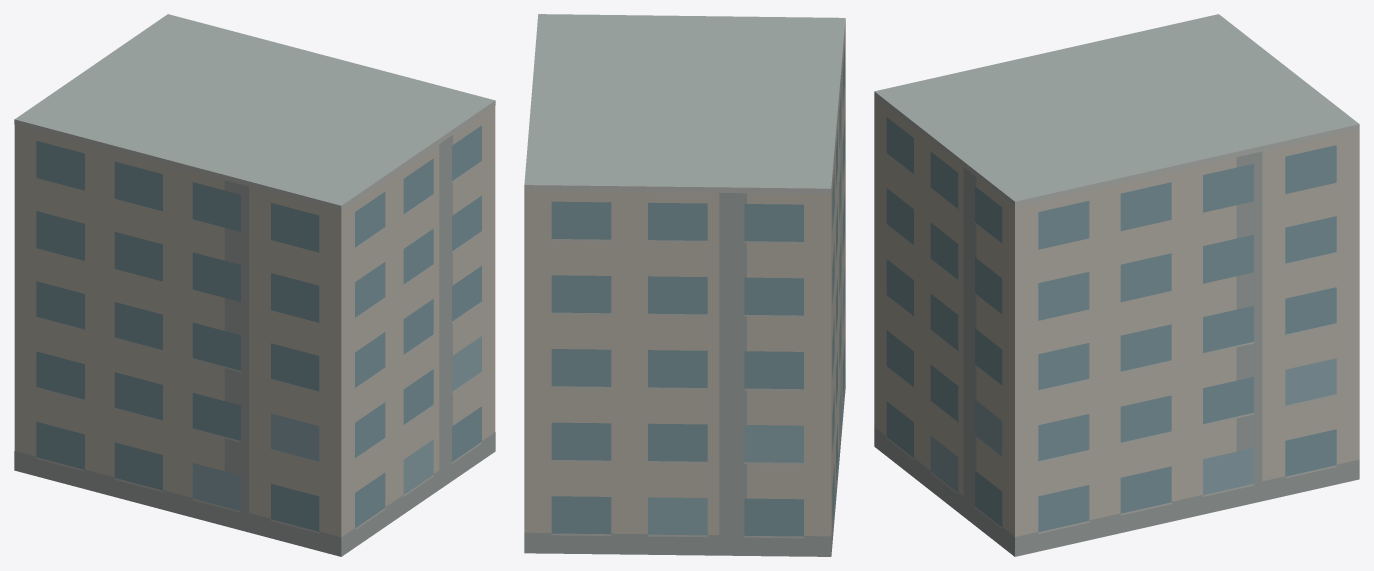
The model's file is survey-upis-32704865.glb.
3 views of the same model, side by side, from view 1: azimuth 30°, elevation 25°; view 2: azimuth 150°, elevation 25°; view 3: azimuth 270°, elevation 25° (orthographic). The views are drawn at different scales.
Parts seen in each view (by area): view 1: survey-upis-32704865.tmp; view 2: survey-upis-32704865.tmp; view 3: survey-upis-32704865.tmp.
Part boxes in pixels (x1,y1,x2,y2): survey-upis-32704865.tmp: [14, 14, 495, 556]; survey-upis-32704865.tmp: [524, 14, 845, 556]; survey-upis-32704865.tmp: [874, 14, 1359, 556].
Bounding box in the file's own units: 18.25 × 16.1 × 19.95.
